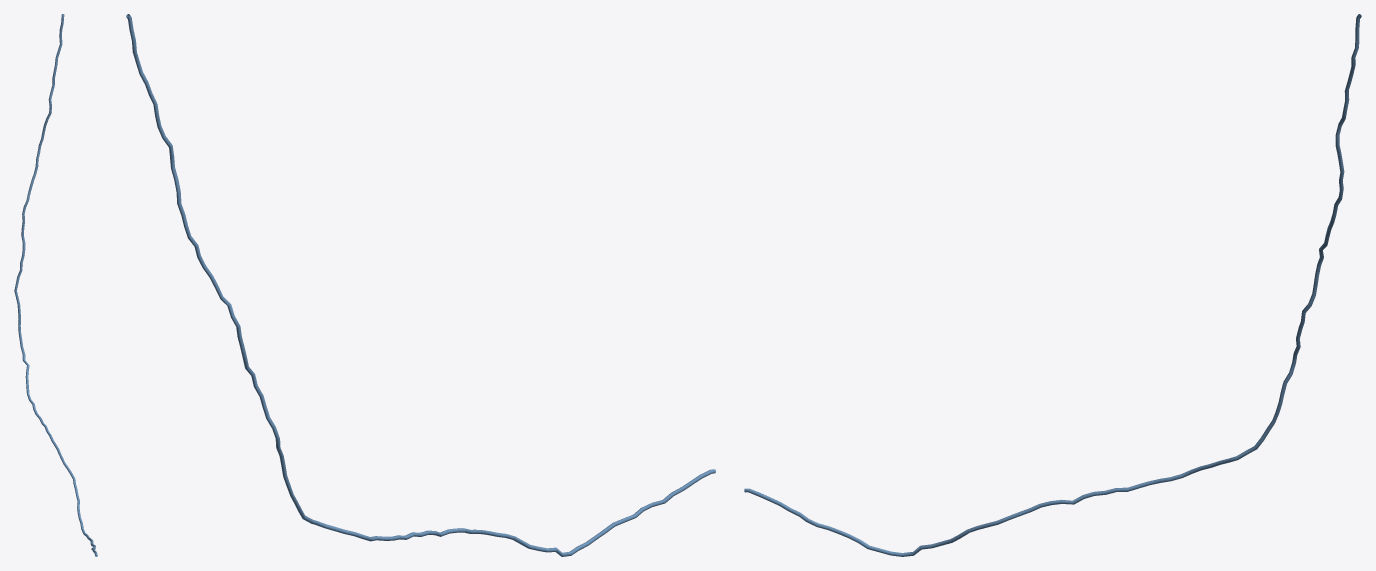
Rendered from sweep188.fbx.
3 views of the same model, side by side, from view 1: azimuth 30°, elevation 25°; view 2: azimuth 150°, elevation 25°; view 3: azimuth 270°, elevation 25° (orthographic). The views are drawn at different scales.
Visible parts, largest first — view 1: sweep188; view 2: sweep188; view 3: sweep188.
Part boxes in pixels (x1=…): sweep188: x1=14, y1=14, x2=97, y2=556; sweep188: x1=126, y1=14, x2=715, y2=556; sweep188: x1=744, y1=14, x2=1361, y2=556.
Size of the model in its own units: 1.4 by 3.32 by 2.92.
